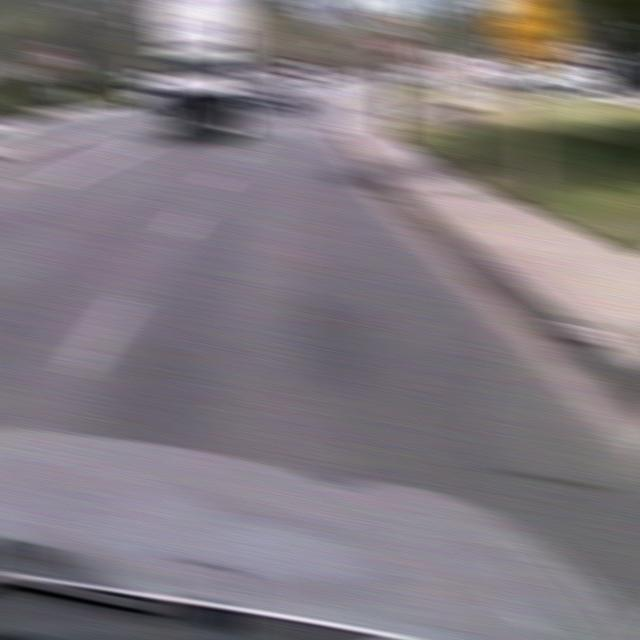stop: (33, 42, 68, 74), (381, 31, 415, 62)
